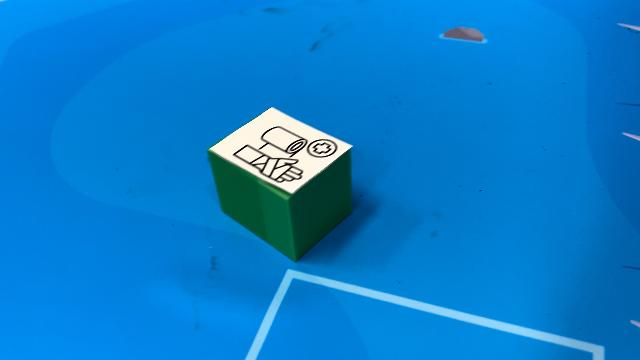bandage: (206, 106, 354, 262)
